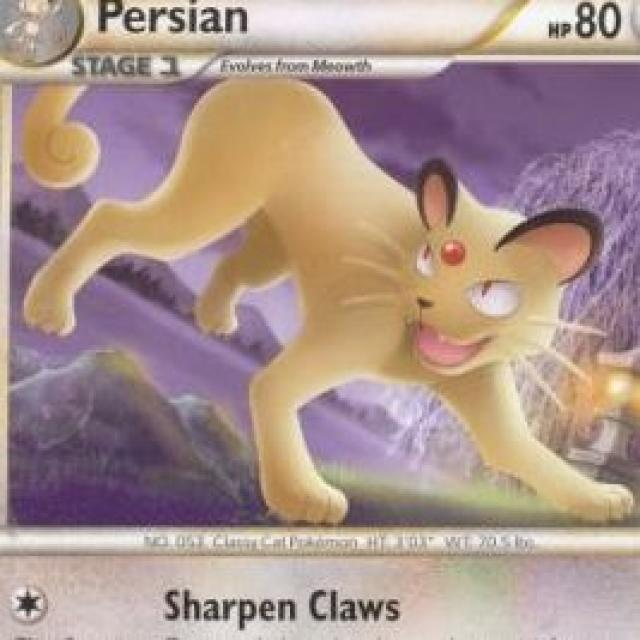Persian: (122, 83, 609, 520)
